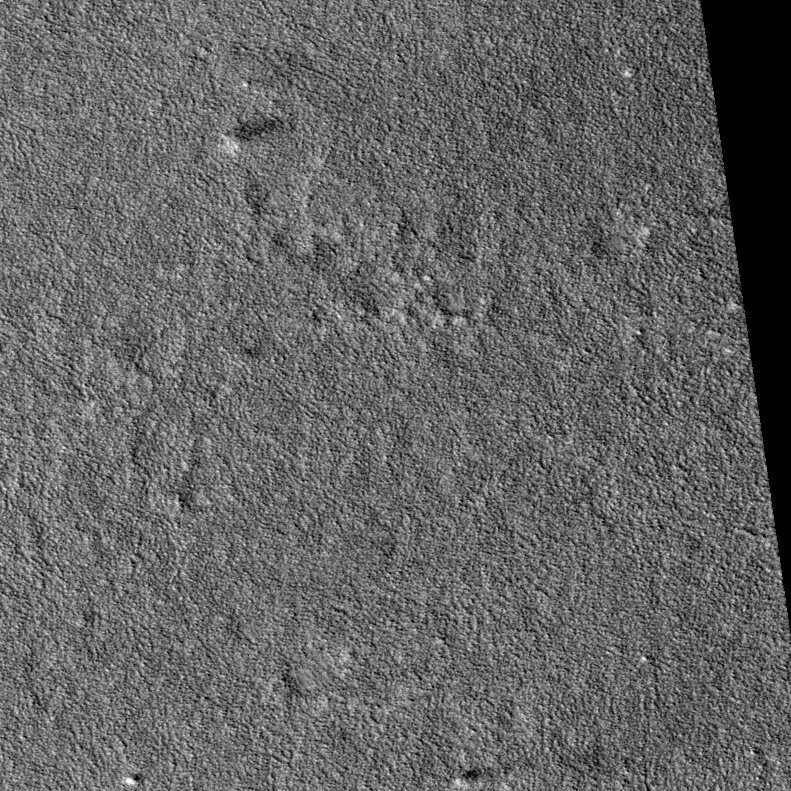dust_devil: (219, 112, 294, 156)
